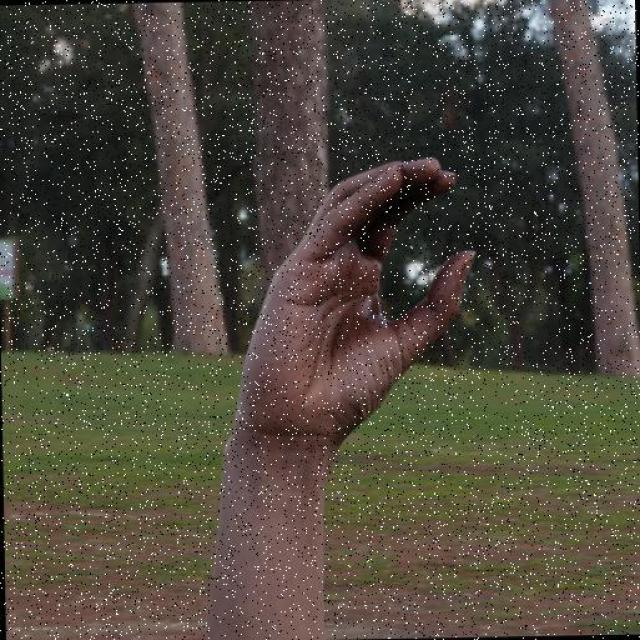C: (217, 154, 484, 458)
